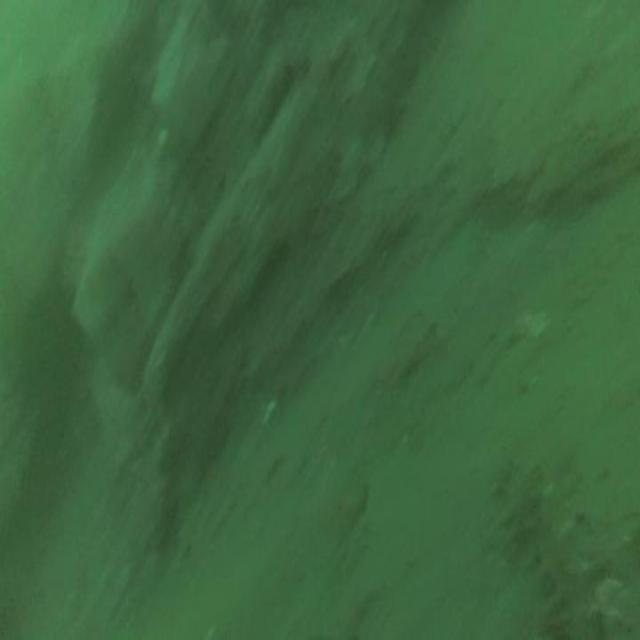holothurian: (494, 458, 598, 637)
